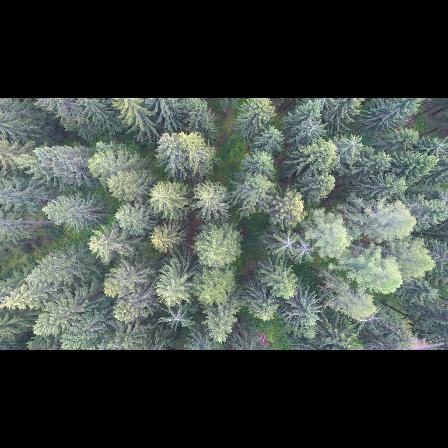Sick: (157, 305, 198, 332), (304, 113, 331, 139), (273, 233, 297, 256), (293, 240, 317, 261)
